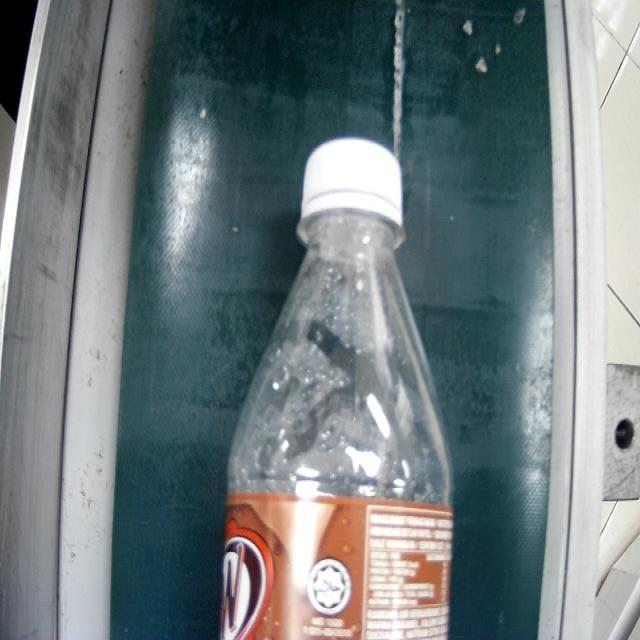Pet_Bottle: (218, 139, 455, 640)
